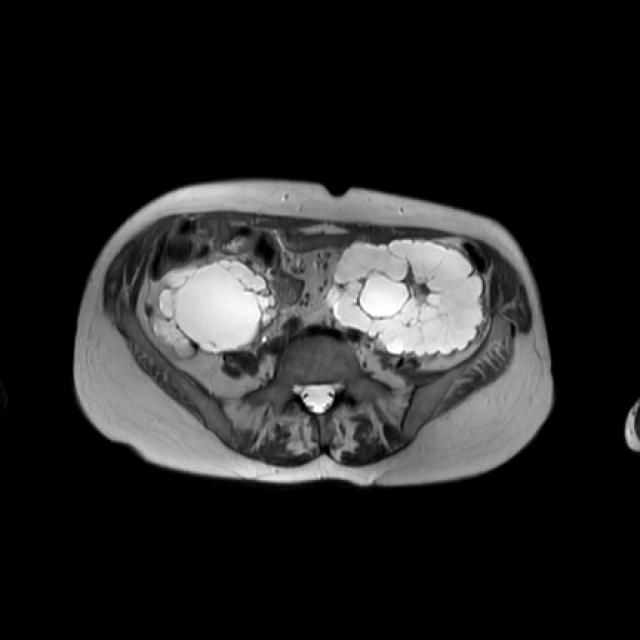sag: (153, 260, 279, 359)
sol: (329, 239, 483, 356)
